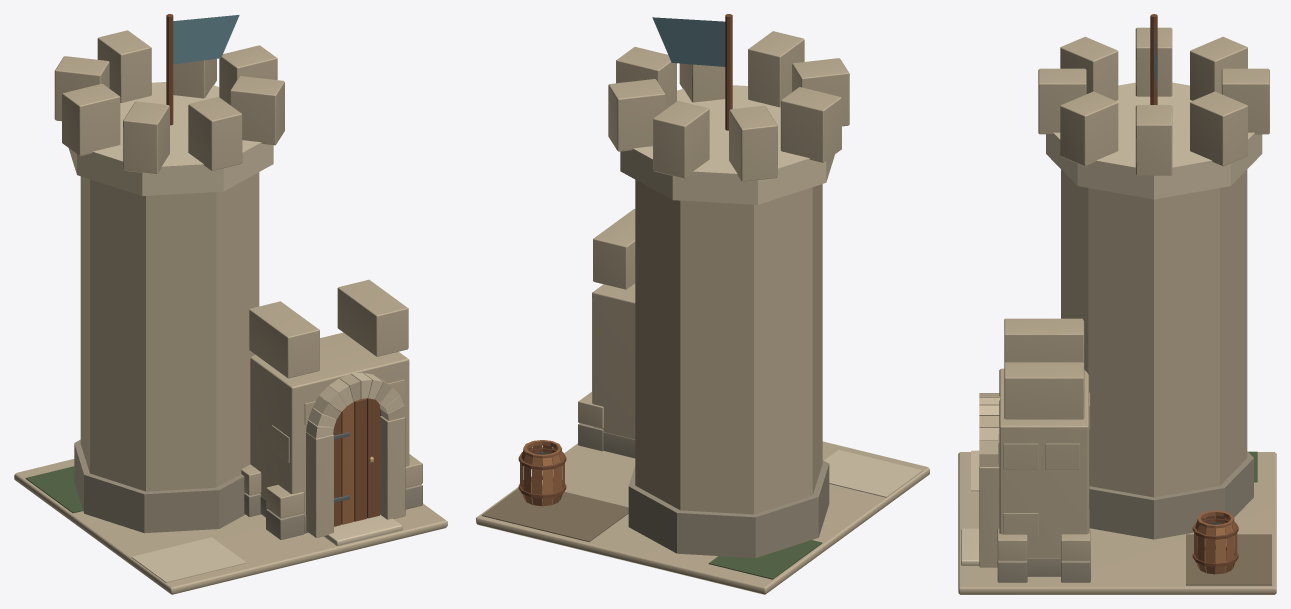
The model's file is watch.glb.
The picture shows the model from 3 angles, left to right: view 1: azimuth 30°, elevation 25°; view 2: azimuth 150°, elevation 25°; view 3: azimuth 270°, elevation 25°; orthographic projection. The views are drawn at different scales.
Visible parts, largest first — view 1: watch; view 2: watch; view 3: watch.
Boxes of the visible parts, x1=… form: watch: x1=14, y1=14, x2=447, y2=594; watch: x1=476, y1=14, x2=929, y2=594; watch: x1=958, y1=14, x2=1276, y2=594.
Size of the model in its own units: 1.97 by 3.25 by 1.91.
